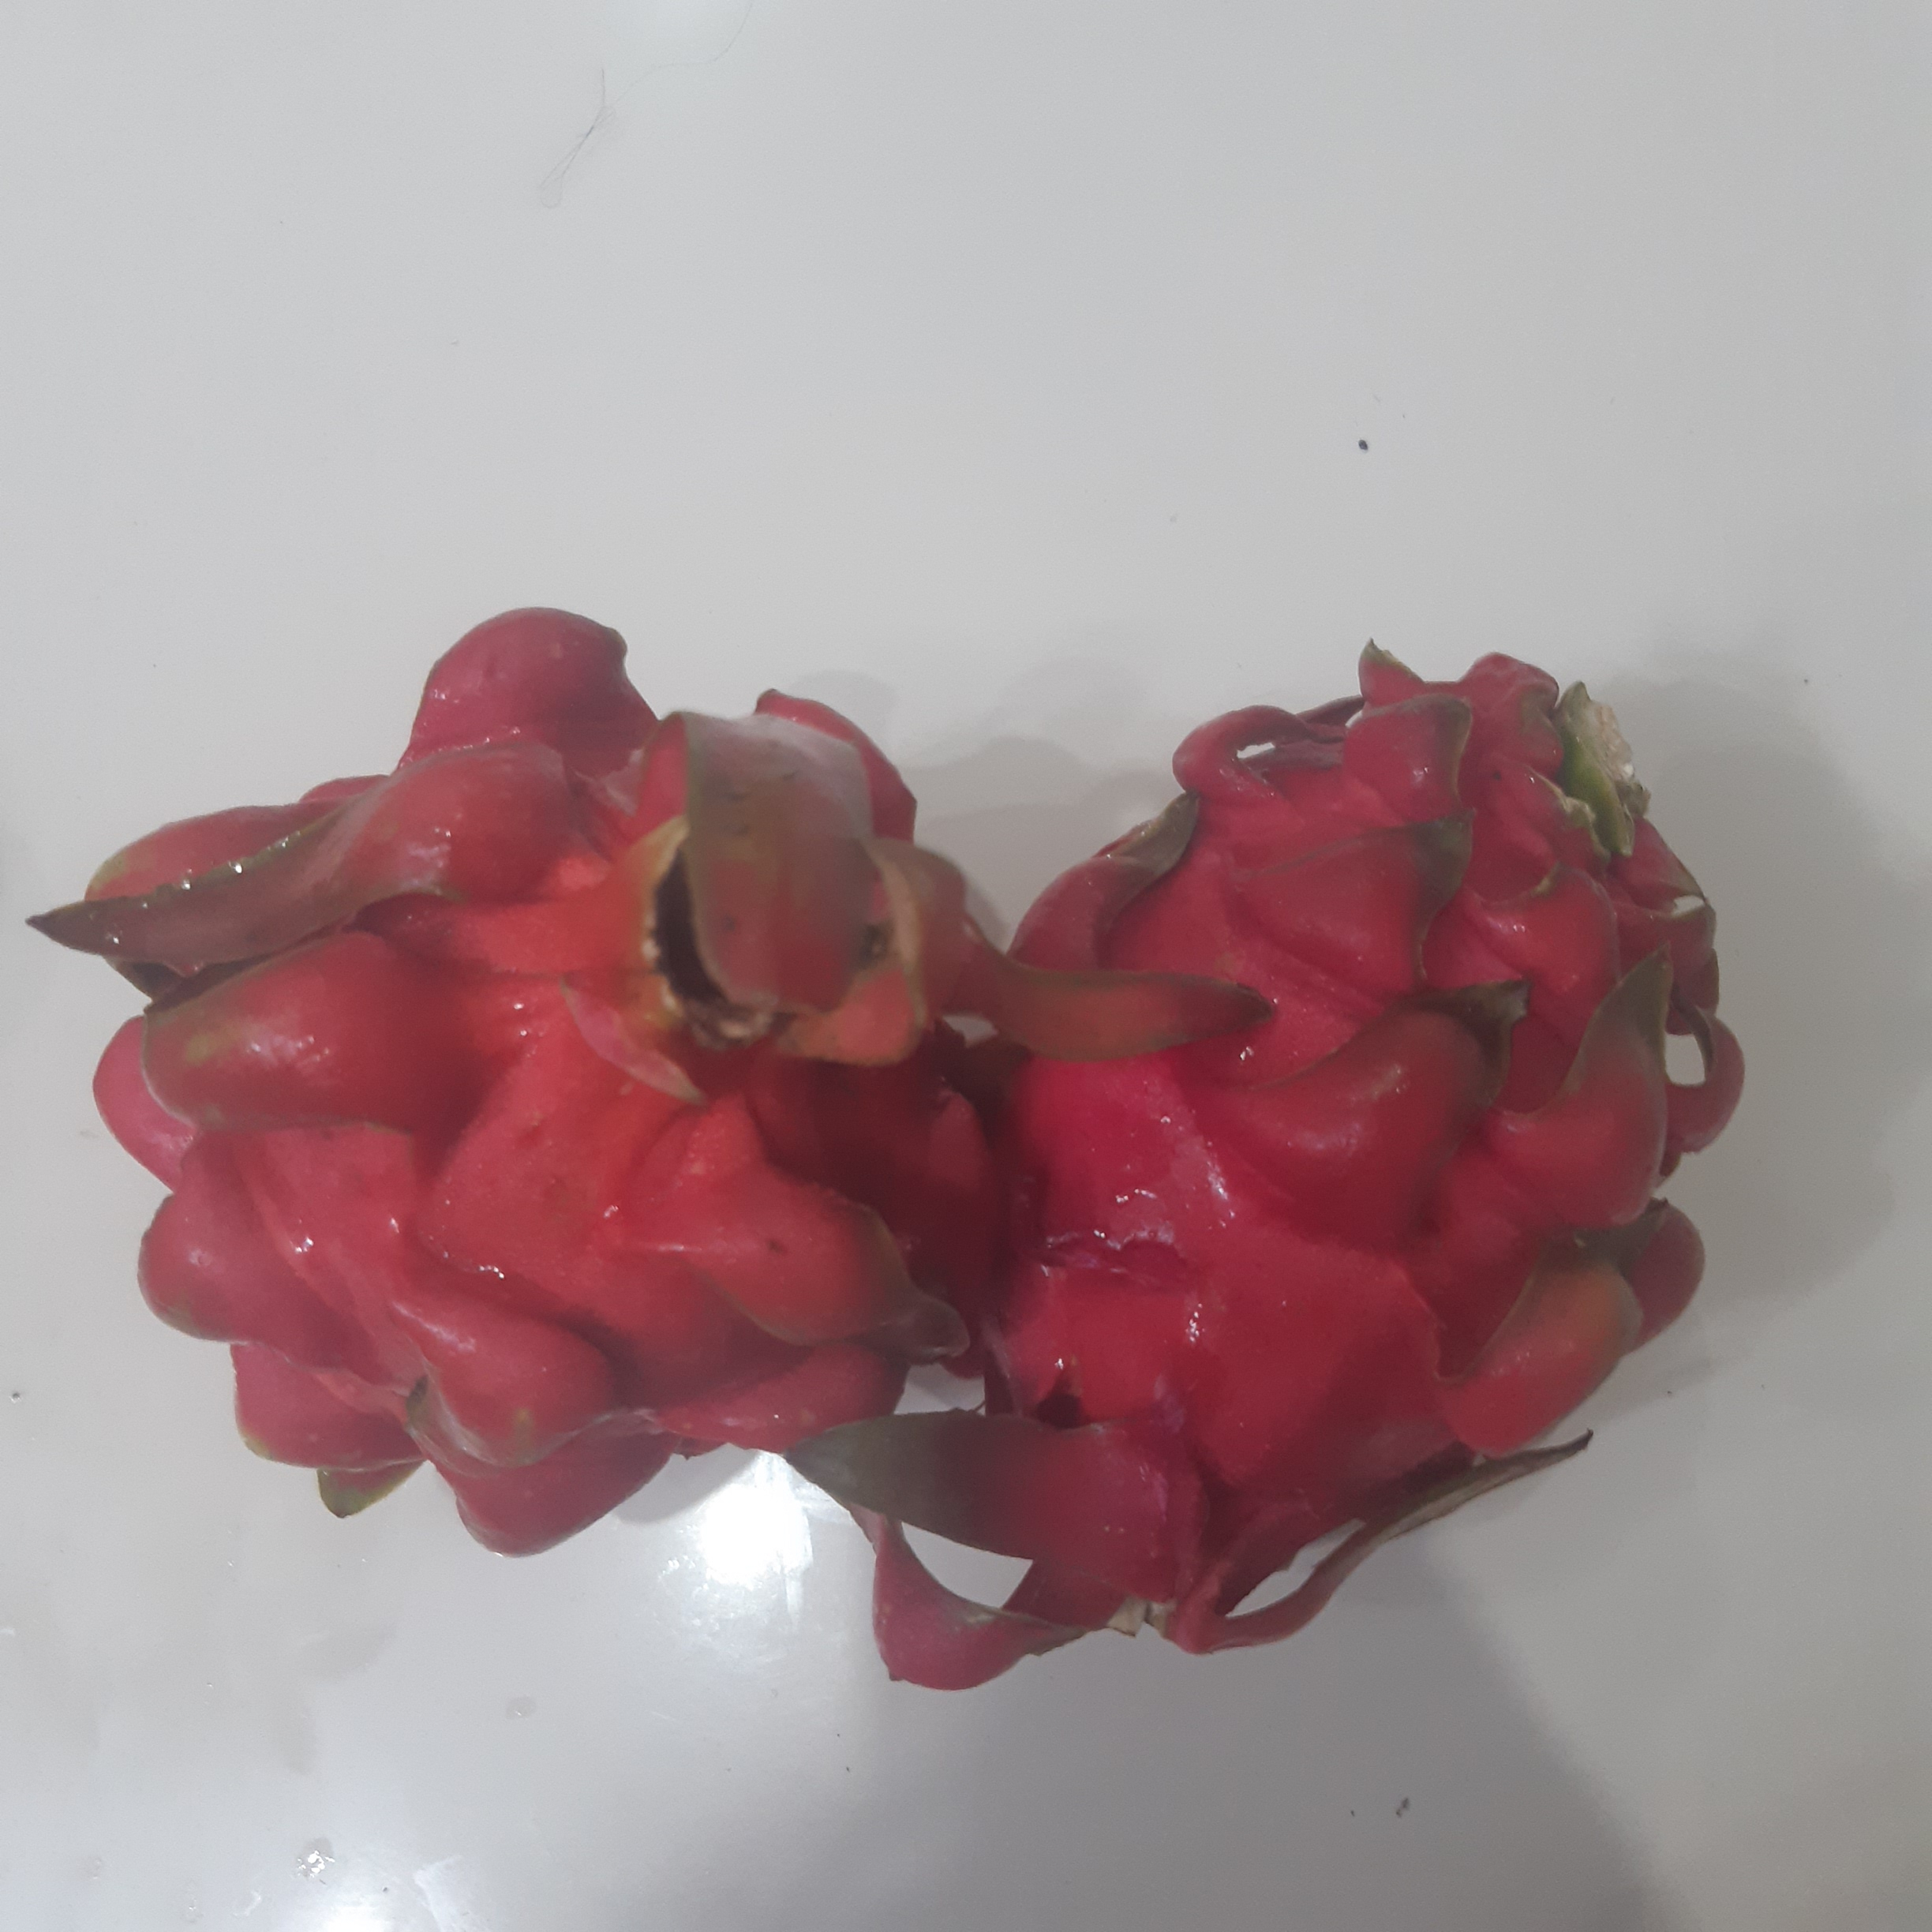Thanh long: (915, 637, 1718, 1654), (88, 683, 957, 1499)
